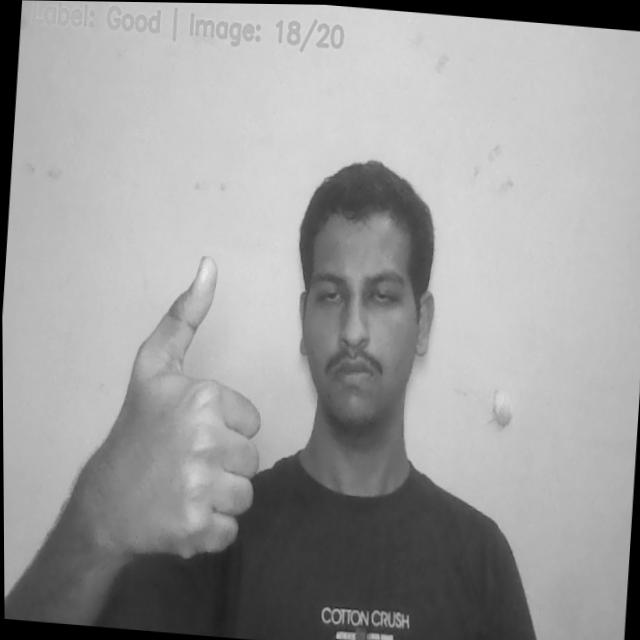Good: (112, 250, 275, 564)
